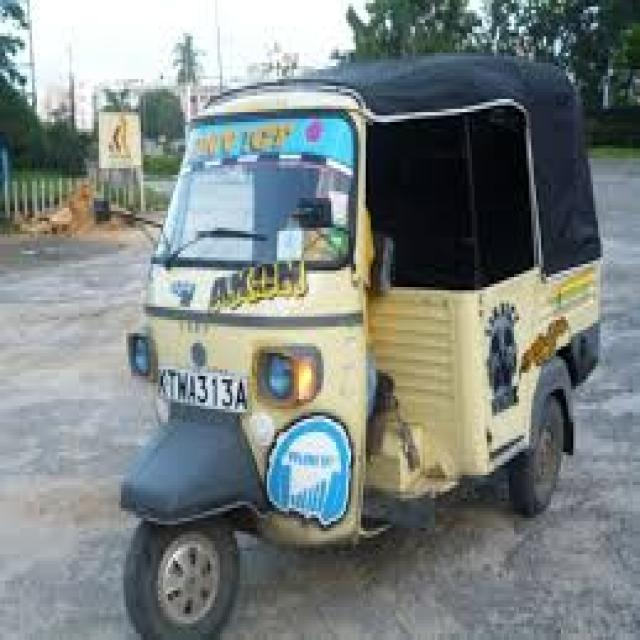tuktuk: (39, 43, 626, 640)
